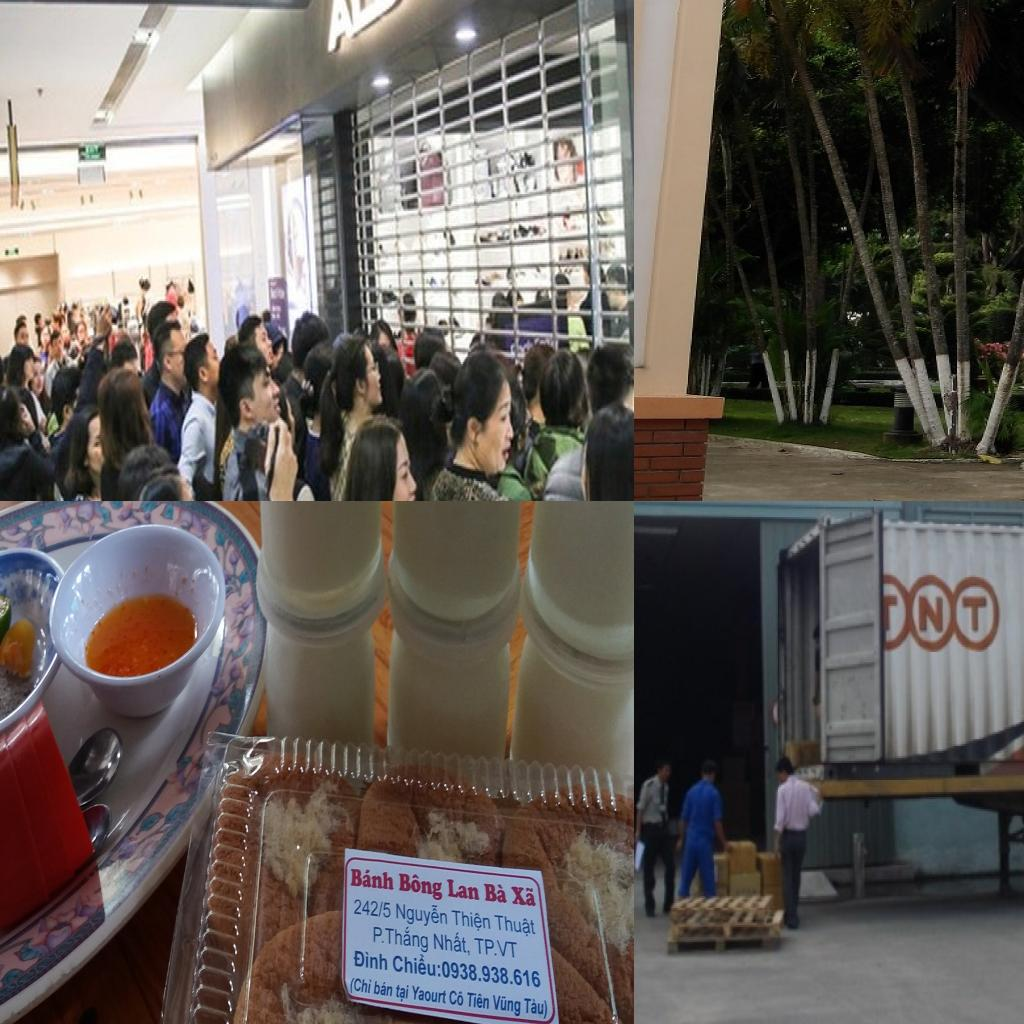text: (322, 0, 463, 73), (442, 962, 541, 989), (372, 921, 428, 956), (395, 898, 449, 930), (392, 951, 441, 978), (398, 873, 443, 901), (918, 592, 946, 635), (433, 929, 471, 958), (962, 596, 990, 635), (494, 914, 537, 939), (350, 868, 395, 890), (450, 909, 491, 933), (474, 937, 518, 959), (446, 878, 481, 902), (353, 898, 391, 918), (492, 992, 521, 1018), (354, 949, 388, 970), (412, 985, 447, 1005), (348, 976, 373, 1000), (483, 882, 508, 904), (511, 886, 537, 907), (466, 992, 490, 1010), (373, 979, 393, 997), (394, 983, 410, 1005), (448, 988, 464, 1006)
